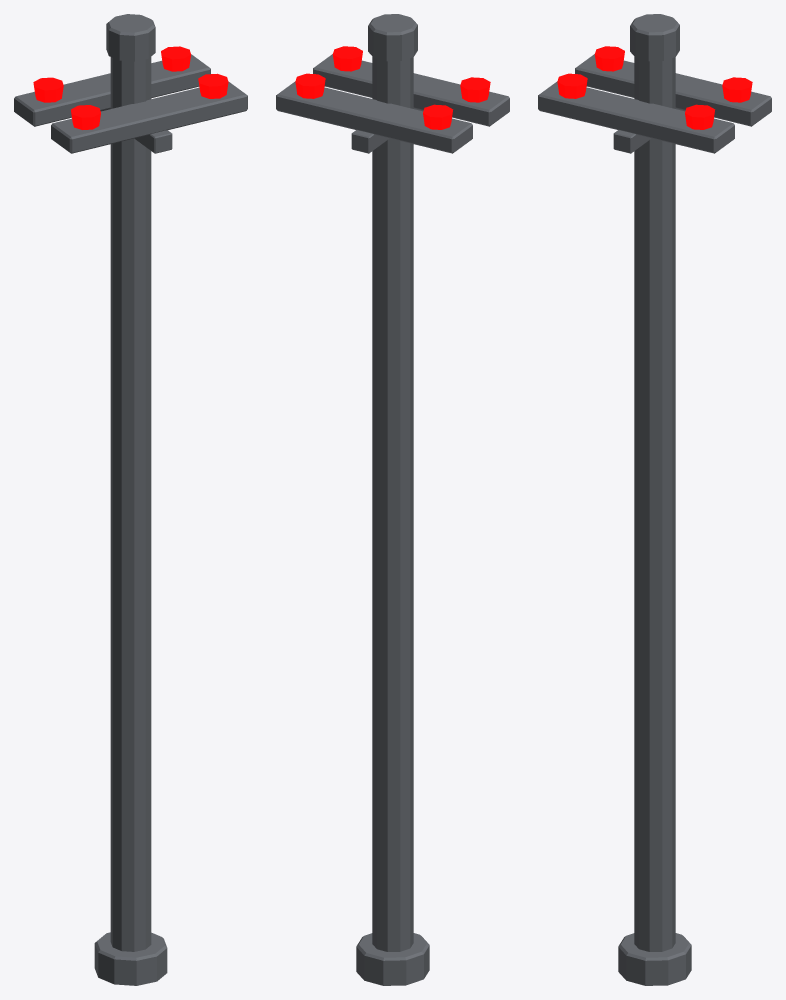
Rendered from SM_Electric_Pole_1B.fbx.
3 views of the same model, side by side, from view 1: azimuth 30°, elevation 25°; view 2: azimuth 150°, elevation 25°; view 3: azimuth 330°, elevation 25° (orthographic).
Visible parts, largest first — view 1: SM_Electric_Pole_1B_LOD0; view 2: SM_Electric_Pole_1B_LOD0; view 3: SM_Electric_Pole_1B_LOD0.
Part boxes in pixels (box(x1,y1,x2,y2)): SM_Electric_Pole_1B_LOD0: box(14, 14, 247, 985); SM_Electric_Pole_1B_LOD0: box(276, 14, 509, 985); SM_Electric_Pole_1B_LOD0: box(538, 14, 771, 985).
Bounding box in the file's own units: 200 × 128 × 1016.
Materials: 1 (1 with a texture image).
